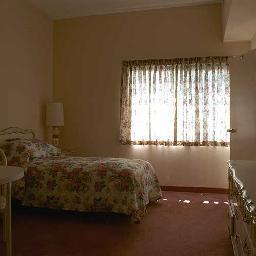Cama: (19, 135, 150, 221)
Puerta: (228, 46, 254, 158)
Ventana: (127, 61, 227, 143)
